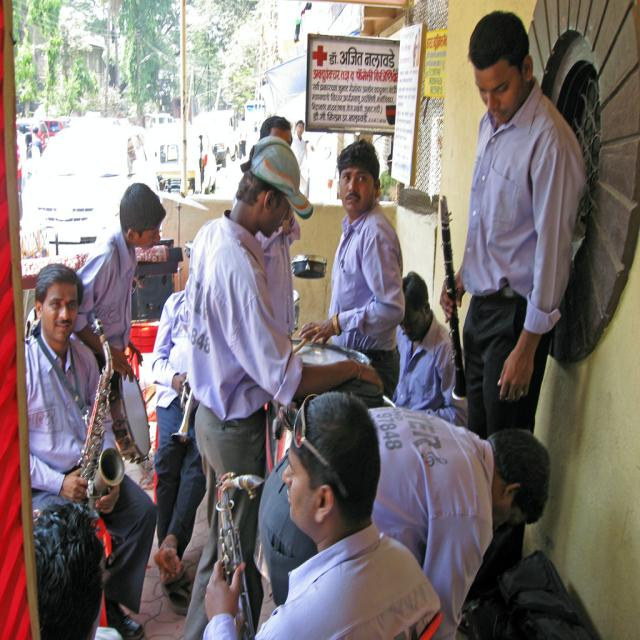clarinet: (434, 193, 477, 400)
saxophone: (76, 313, 126, 516), (216, 468, 270, 640)
